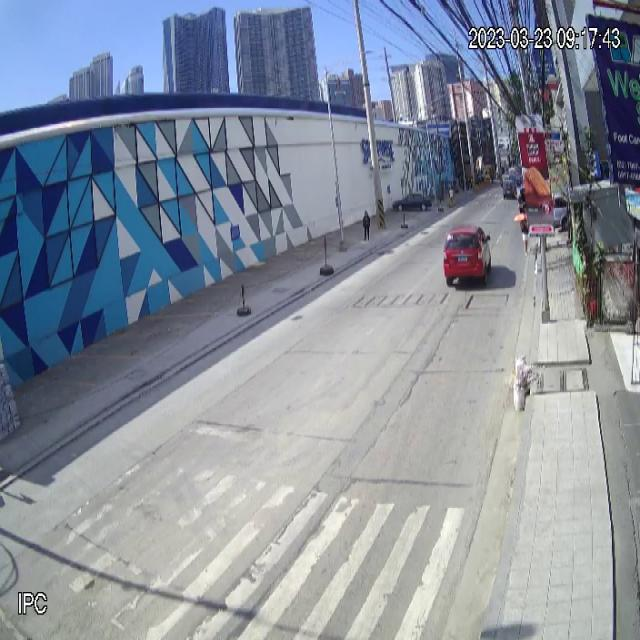Car: (442, 221, 493, 290)
